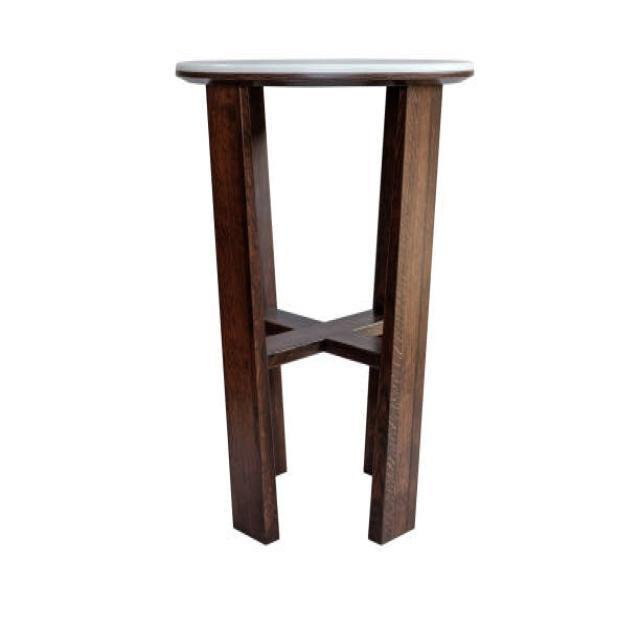table: (175, 56, 474, 546)
